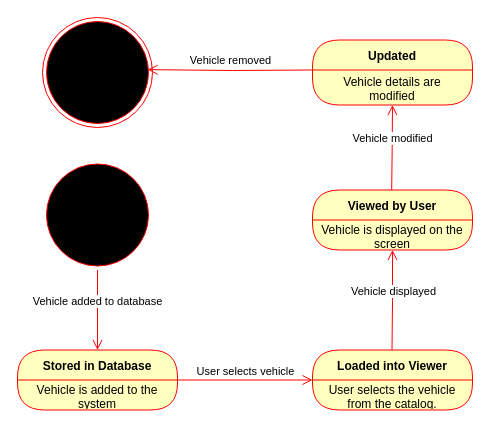
Some shapes in this 490 by 428 pixel diagram are drawn without their labels. The centre of each missing label's shape, as x and y in pixels:
"Deleted (Final State)" belongs at point (97, 72).
"Vehicle Created" belongs at point (97, 214).
